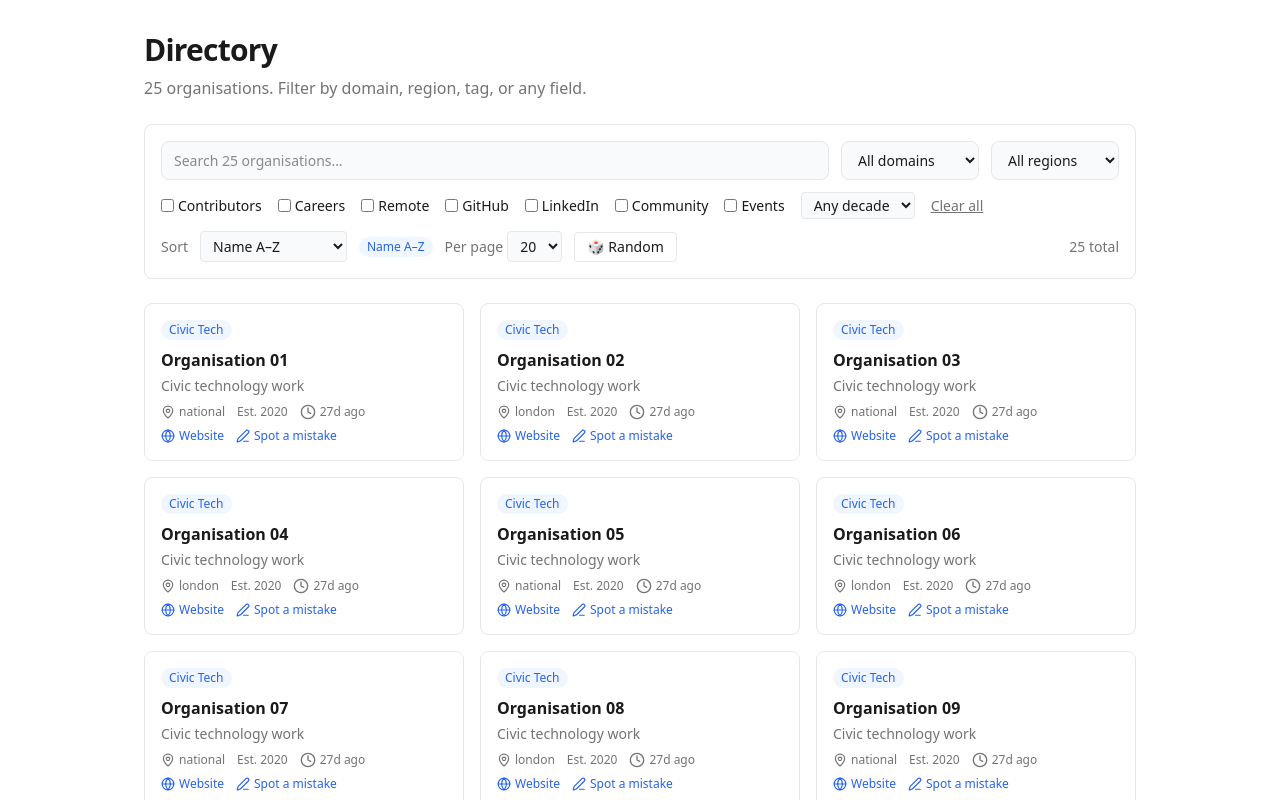
Scenario: DirectoryClient › does not crash when the query contains regex metacharacters
The image size is (1280, 800).
Type "[(" into the search field named "Search entries" at (495, 160), box [161, 141, 829, 180]
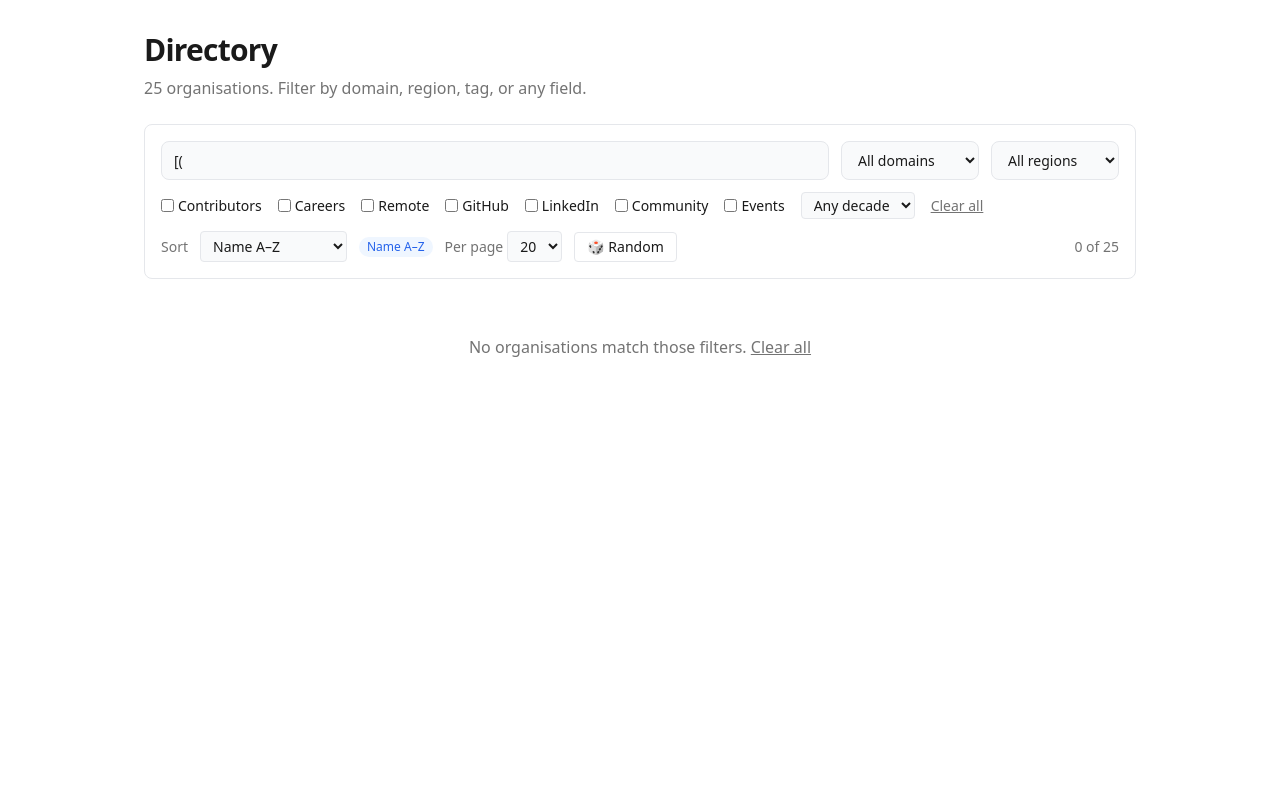
Check: the text "No organisations match those filters. Clear all" is shown, box [469, 335, 811, 359]
